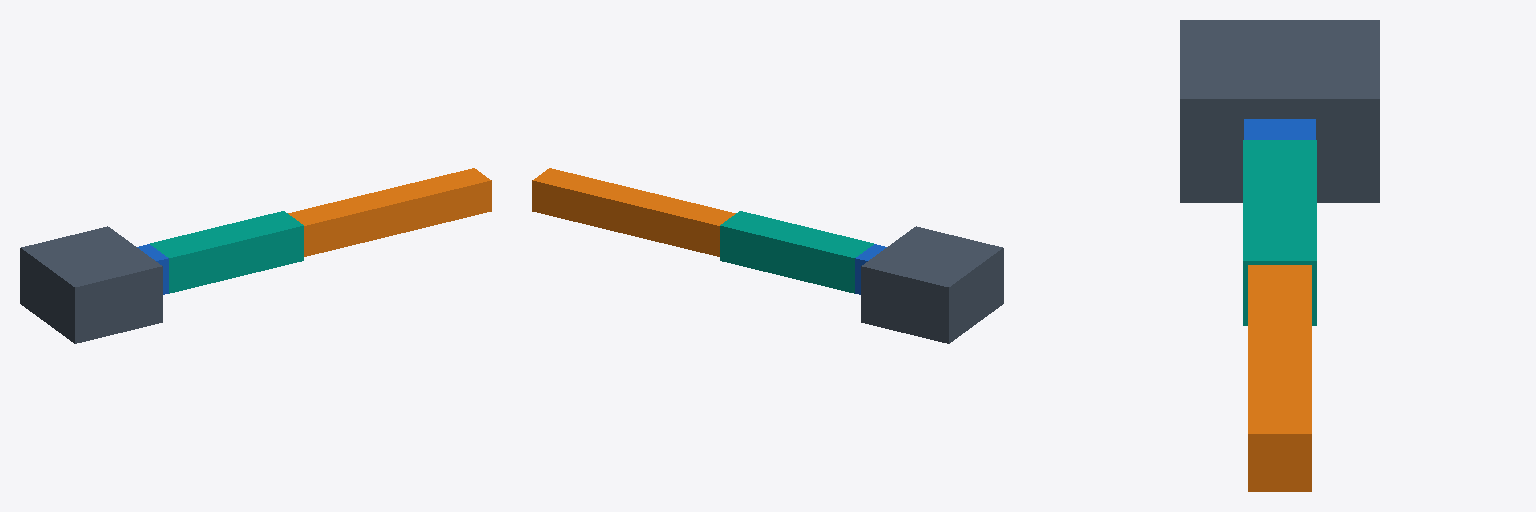
URDF robot description (three_dof_leg_demo):
<?xml version="1.0"?>
<!-- Runnable demo: illustrative geometry and lengths, NOT your actual CAD. Units: metres, kg, radians. -->
<robot name="three_dof_leg_demo">
  <material name="base_gray"><color rgba="0.35 0.40 0.46 1"/></material>
  <material name="coxa_blue"><color rgba="0.16 0.46 0.85 1"/></material>
  <material name="femur_teal"><color rgba="0.05 0.69 0.61 1"/></material>
  <material name="tibia_orange"><color rgba="0.95 0.54 0.13 1"/></material>

  <!-- An attachment bracket: held fixed while testing ONE leg. -->
  <link name="base_link">
    <inertial><origin xyz="0 0 0"/><mass value="0.20"/><inertia ixx="0.00015" ixy="0" ixz="0" iyy="0.00015" iyz="0" izz="0.00015"/></inertial>
    <visual><geometry><box size="0.065 0.070 0.040"/></geometry><material name="base_gray"/></visual>
    <collision><geometry><box size="0.065 0.070 0.040"/></geometry></collision>
  </link>

  <!-- Coxa rotates about the vertical Z axis. Link +X points toward the femur joint. -->
  <link name="coxa_link">
    <inertial><origin xyz="0.025 0 0"/><mass value="0.06"/><inertia ixx="0.00001" ixy="0" ixz="0" iyy="0.00002" iyz="0" izz="0.00002"/></inertial>
    <visual><origin xyz="0.025 0 0"/><geometry><box size="0.050 0.025 0.025"/></geometry><material name="coxa_blue"/></visual>
    <collision><origin xyz="0.025 0 0"/><geometry><box size="0.050 0.025 0.025"/></geometry></collision>
  </link>

  <!-- Femur starts at the femur servo shaft and extends along its local +X axis. -->
  <link name="femur_link">
    <inertial><origin xyz="0.050 0 0"/><mass value="0.08"/><inertia ixx="0.00002" ixy="0" ixz="0" iyy="0.00008" iyz="0" izz="0.00008"/></inertial>
    <visual><origin xyz="0.050 0 0"/><geometry><box size="0.100 0.026 0.025"/></geometry><material name="femur_teal"/></visual>
    <collision><origin xyz="0.050 0 0"/><geometry><box size="0.100 0.026 0.025"/></geometry></collision>
  </link>

  <!-- Tibia starts at knee shaft and its +X endpoint is the foot tip. -->
  <link name="tibia_link">
    <inertial><origin xyz="0.070 0 0"/><mass value="0.06"/><inertia ixx="0.00002" ixy="0" ixz="0" iyy="0.00013" iyz="0" izz="0.00013"/></inertial>
    <visual><origin xyz="0.070 0 0"/><geometry><box size="0.140 0.022 0.022"/></geometry><material name="tibia_orange"/></visual>
    <collision><origin xyz="0.070 0 0"/><geometry><box size="0.140 0.022 0.022"/></geometry></collision>
  </link>

  <joint name="coxa_yaw" type="revolute">
    <parent link="base_link"/><child link="coxa_link"/>
    <origin xyz="0 0 0" rpy="0 0 0"/><axis xyz="0 0 1"/>
    <limit lower="-1.05" upper="1.05" effort="1.0" velocity="2.0"/>
  </joint>
  <joint name="femur_pitch" type="revolute">
    <parent link="coxa_link"/><child link="femur_link"/>
    <origin xyz="0.050 0 0" rpy="0 0 0"/><axis xyz="0 1 0"/>
    <limit lower="-0.90" upper="1.25" effort="1.0" velocity="2.0"/>
  </joint>
  <joint name="tibia_pitch" type="revolute">
    <parent link="femur_link"/><child link="tibia_link"/>
    <origin xyz="0.100 0 0" rpy="0 0 0"/><axis xyz="0 1 0"/>
    <limit lower="-1.5" upper="1.5" effort="1.0" velocity="2.0"/>
  </joint>
  <link name="foot_tip">
    <inertial><mass value="0"/><inertia ixx="0" ixy="0" ixz="0" iyy="0" iyz="0" izz="0"/></inertial>
  </link>
  <joint name="foot_tip_fixed" type="fixed">
    <parent link="tibia_link"/><child link="foot_tip"/>
    <origin xyz="0.140 0 0"/>
  </joint>
</robot>

--- Render facts (derived) ---
3 views of the same robot in one strip: view 1: azimuth 30°, elevation 25°; view 2: azimuth 150°, elevation 25°; view 3: azimuth 270°, elevation 25° (orthographic).
Model three_dof_leg_demo with 5 links and 4 joints (3 revolute, 1 fixed), rooted at base_link, posed every joint at zero.
Visible links, largest first — view 1: base_link, tibia_link, femur_link; view 2: base_link, tibia_link, femur_link; view 3: base_link, tibia_link, femur_link, coxa_link.
Link boxes in pixels (<box>): base_link: <box>20,226,162,343</box>; tibia_link: <box>288,168,491,256</box>; femur_link: <box>150,211,303,293</box>; base_link: <box>861,226,1003,343</box>; tibia_link: <box>532,168,735,256</box>; femur_link: <box>720,211,873,293</box>; base_link: <box>1180,20,1379,202</box>; tibia_link: <box>1248,265,1311,491</box>; femur_link: <box>1243,140,1316,325</box>; coxa_link: <box>1244,119,1315,139</box>.
Size in the robot's own frame: 0.3225 by 0.07 by 0.04 metres.
Geometry: primitives only (box / cylinder / sphere), no mesh files.
